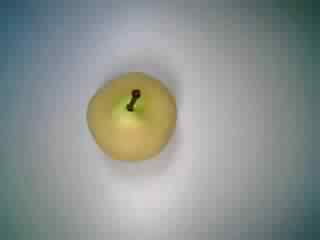pear: (80, 62, 185, 165)
